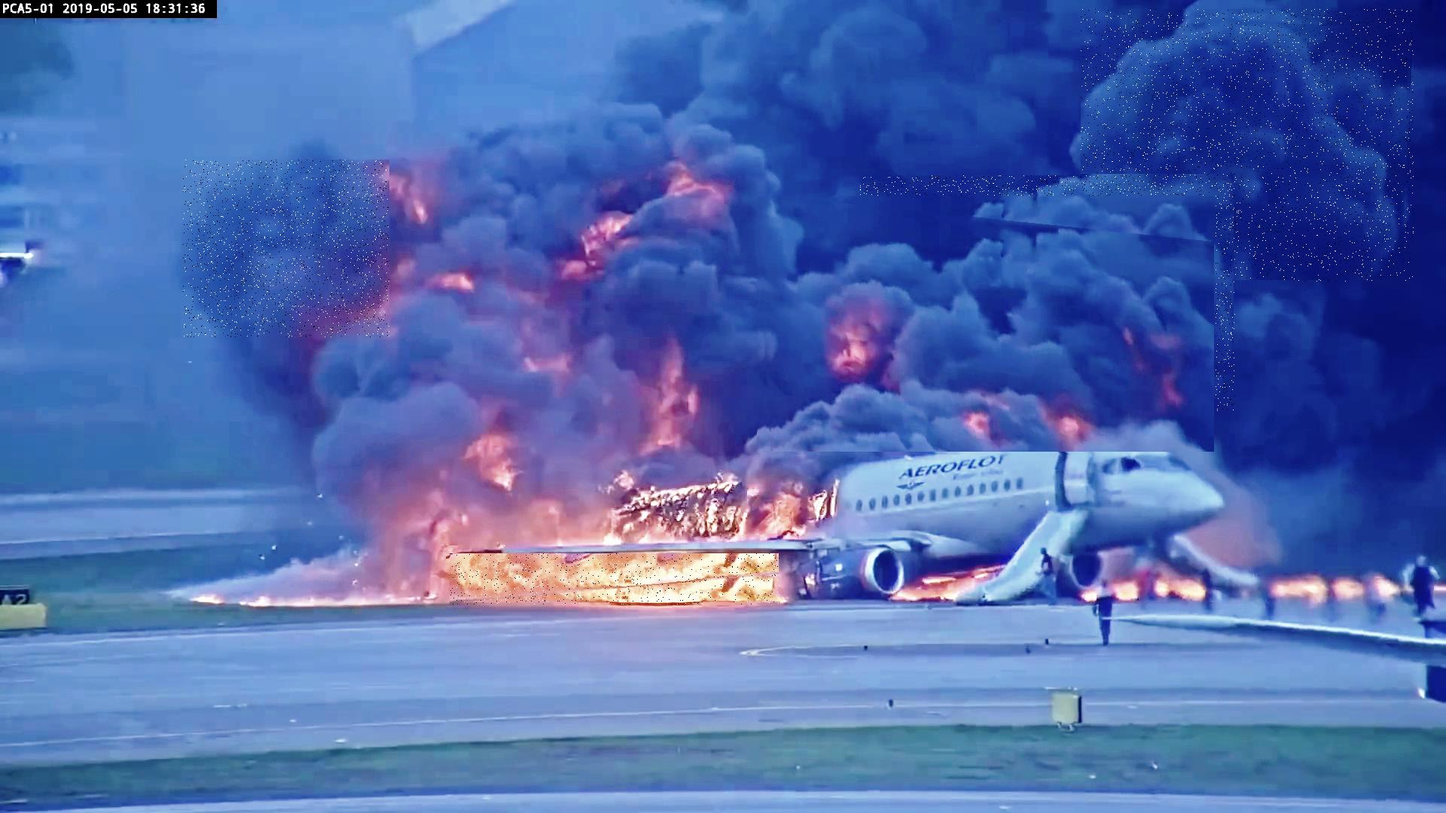fire: (450, 554, 781, 605)
smoke: (757, 196, 1216, 454), (1081, 10, 1414, 282), (861, 176, 1236, 413), (183, 160, 389, 338)
